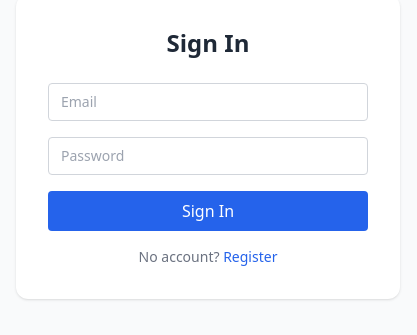
Test: LoginPage › shows error message on failed login
In the field with placeholder "Email": (208, 102) [48, 83, 368, 121], type "bad@test.com"
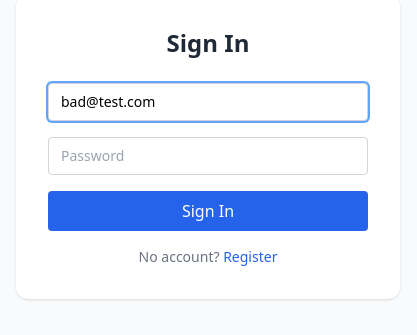
In the password field with placeholder "Password": (208, 156) [48, 137, 368, 175], type "wrong"
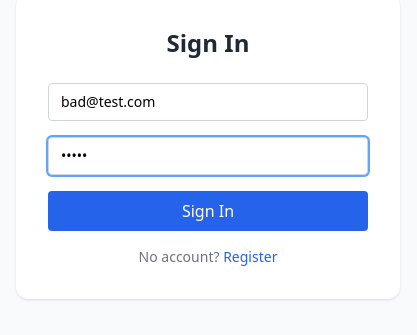
Click the button "Sign In": (208, 211) [48, 191, 368, 231]
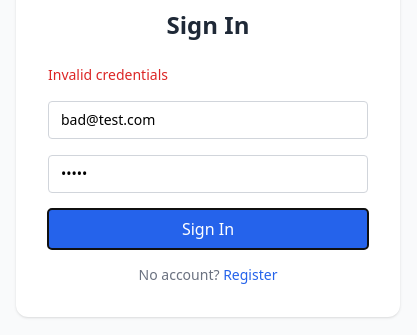
Expected: the text "Invalid credentials" is shown, [48, 65, 168, 84]
